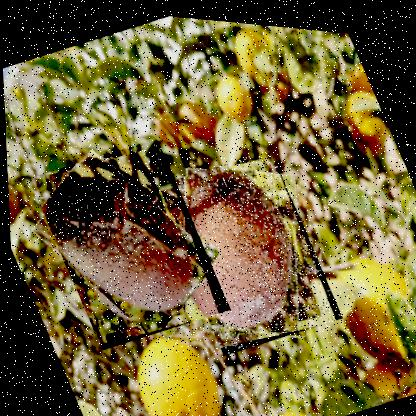orange_rotten: (24, 124, 230, 359), (146, 134, 342, 362)
